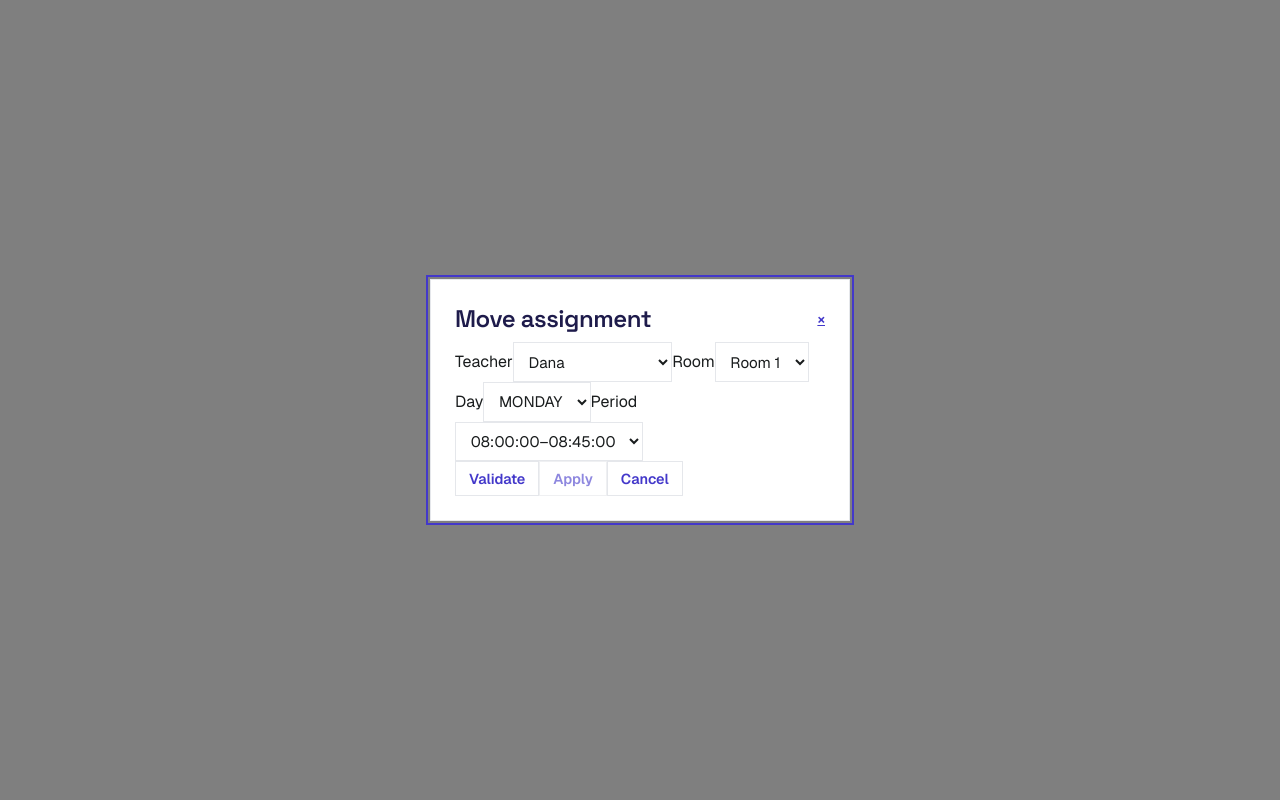
Test: MoveDialog › never enables Apply when validation reports INVALID
Select "Blocked Teacher" in the dropdown labelled "Teacher" at (593, 362), box [513,342,672,382]
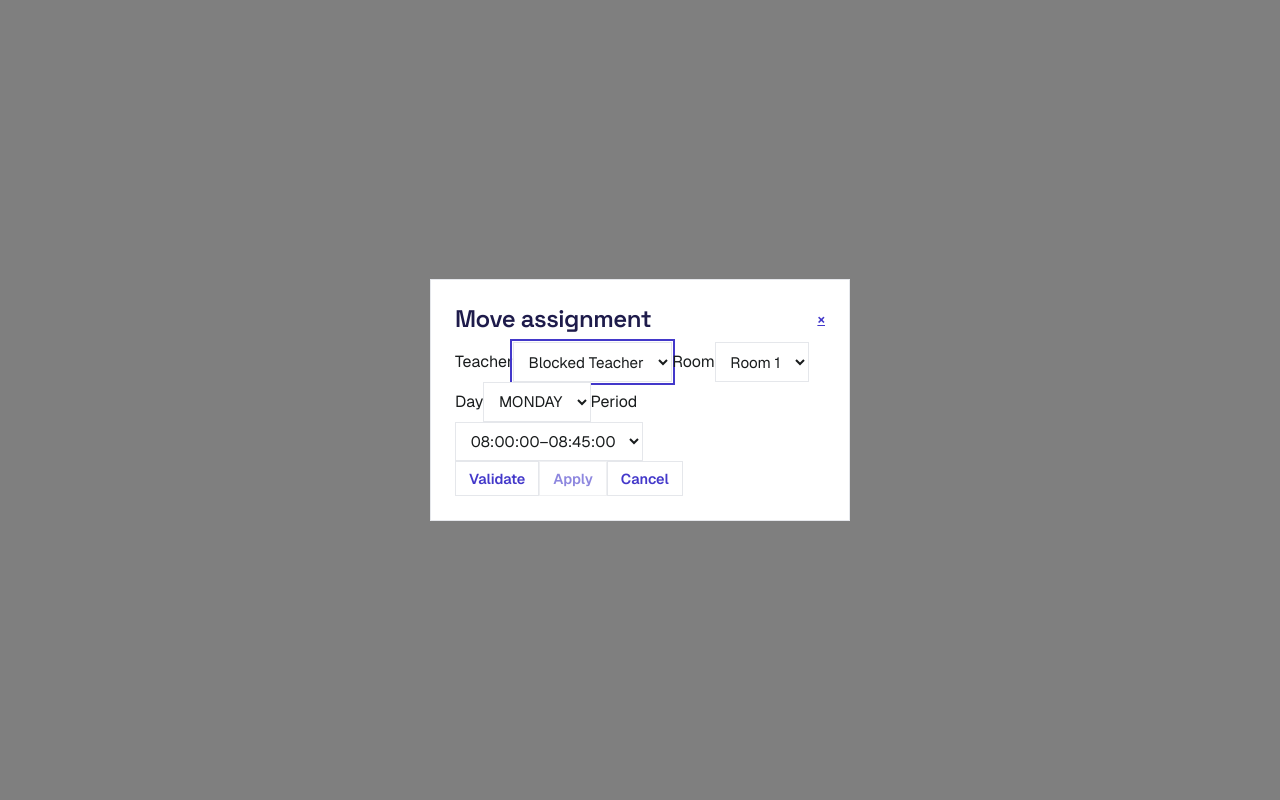
Click the button "Validate" at (497, 479), box [455,461,539,496]
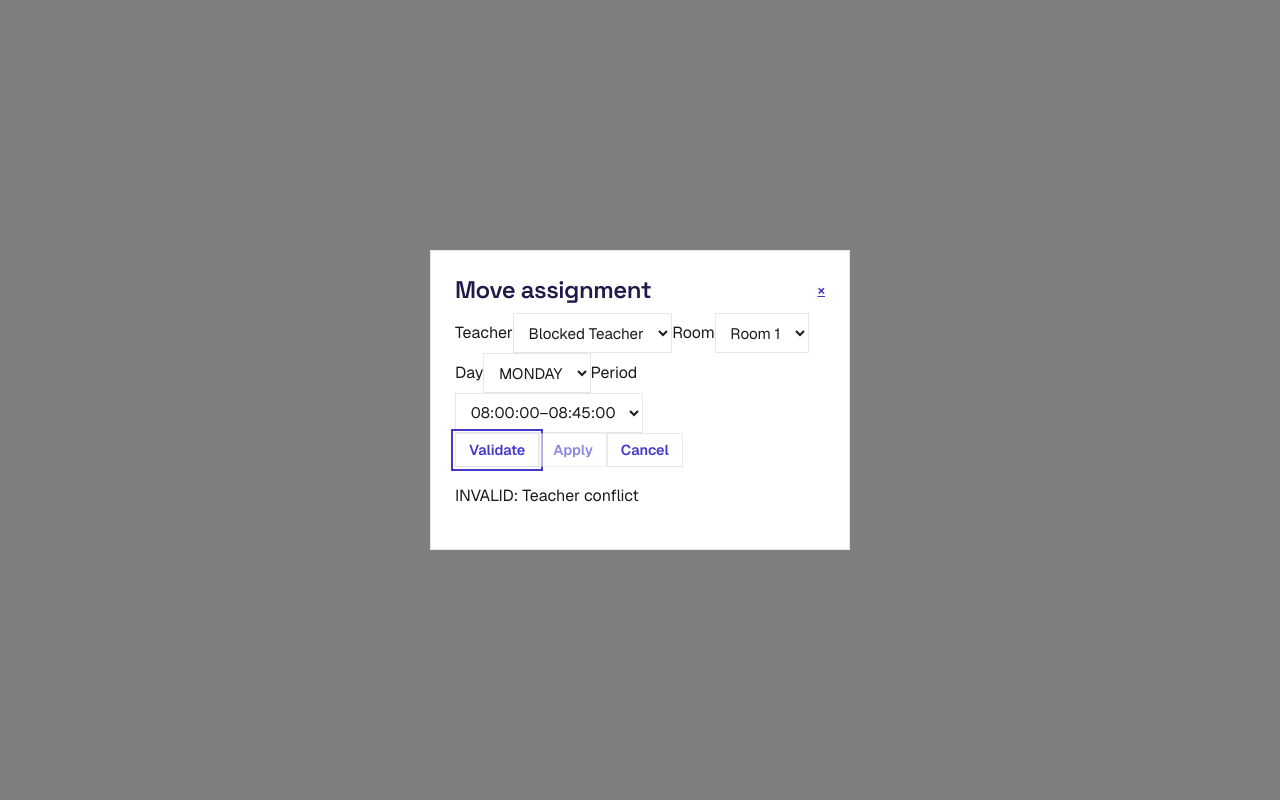
Expected: the button "Apply" is disabled, [539,433,607,467]
Now the text "INVALID: Teacher conflict" is shown, box [455,485,639,506]
